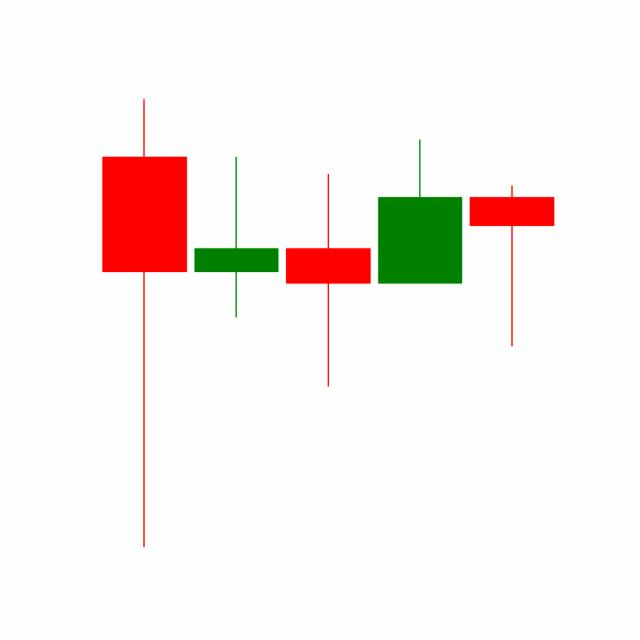Hammer: (464, 183, 558, 348)
